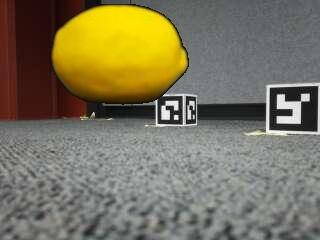lemon: (53, 5, 189, 104)
